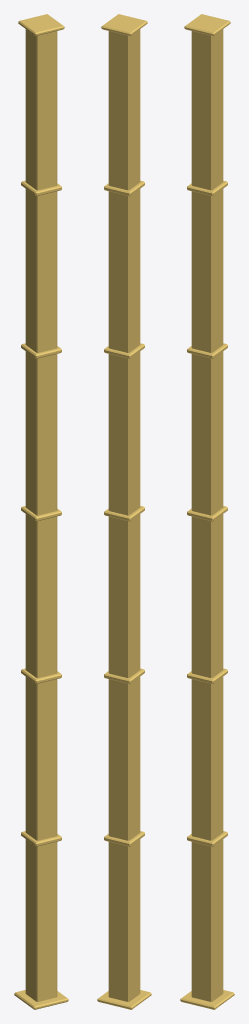
Rendered from SM_Post_0p6x27x0p6.glb.
The picture shows the model from 3 angles, left to right: view 1: azimuth 30°, elevation 25°; view 2: azimuth 150°, elevation 25°; view 3: azimuth 330°, elevation 25°; orthographic projection.
Visible parts, largest first — view 1: SM_Post_0p6x27x0p6; view 2: SM_Post_0p6x27x0p6; view 3: SM_Post_0p6x27x0p6.
Boxes of the visible parts, x1=… form: SM_Post_0p6x27x0p6: x1=14, y1=14, x2=68, y2=1009; SM_Post_0p6x27x0p6: x1=97, y1=14, x2=151, y2=1009; SM_Post_0p6x27x0p6: x1=180, y1=14, x2=234, y2=1009.
Bounding box in the file's own units: 1.02 × 27 × 1.02.
